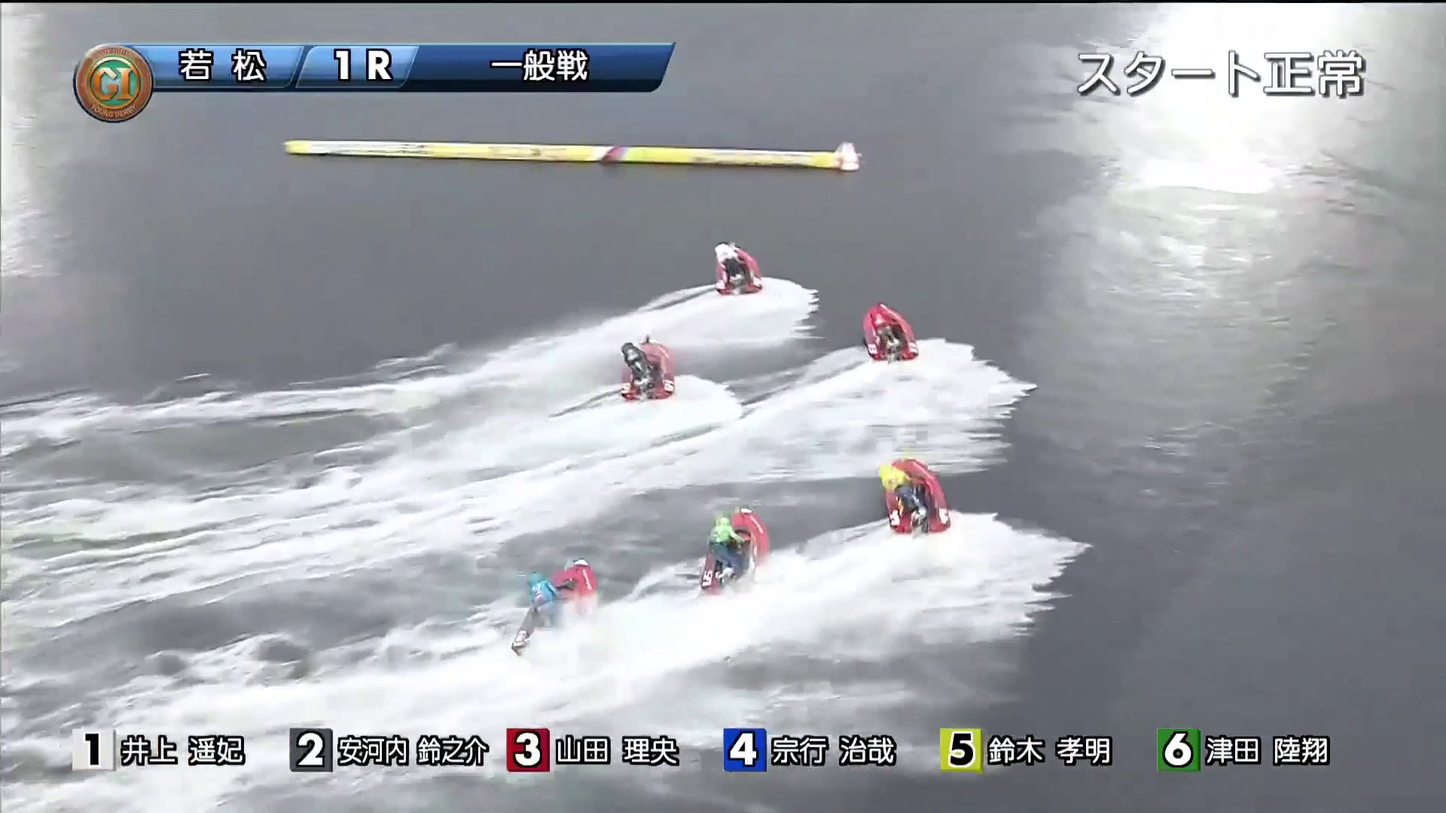１号艇: (693, 249, 763, 303)
２号艇: (593, 358, 722, 419)
３号艇: (835, 327, 933, 374)
４号艇: (657, 539, 791, 604)
５号艇: (465, 597, 589, 652)
６号艇: (871, 482, 970, 539)
